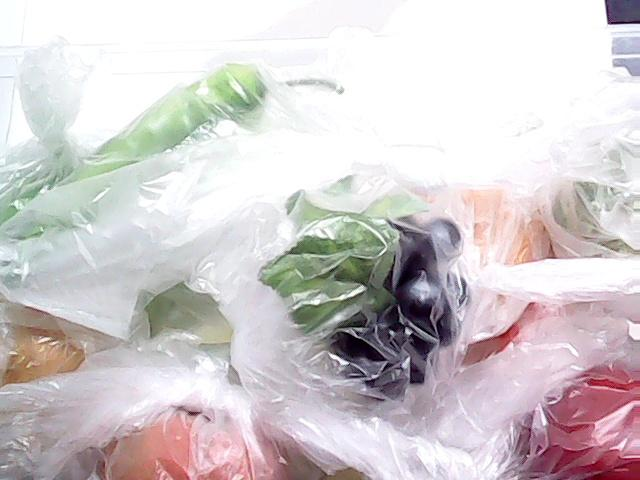apple: (479, 356, 640, 480)
cabbage: (1, 142, 108, 246)
carrot: (496, 251, 588, 385)
grape: (326, 213, 462, 404)
lemon: (438, 179, 554, 281)
napa cabbage: (122, 278, 290, 378)
peach: (95, 403, 293, 480)
pepper: (0, 62, 272, 266)
potato: (0, 301, 88, 399)
